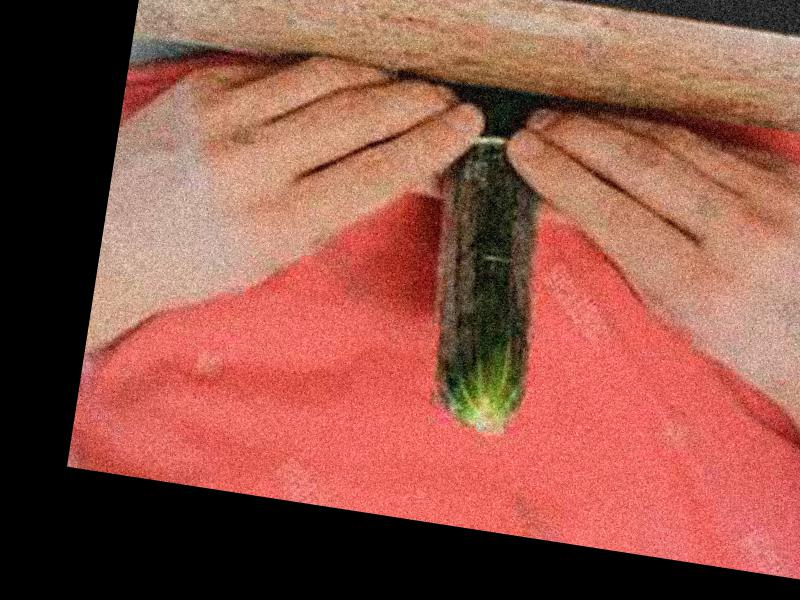Cucumber: (408, 86, 570, 436)
